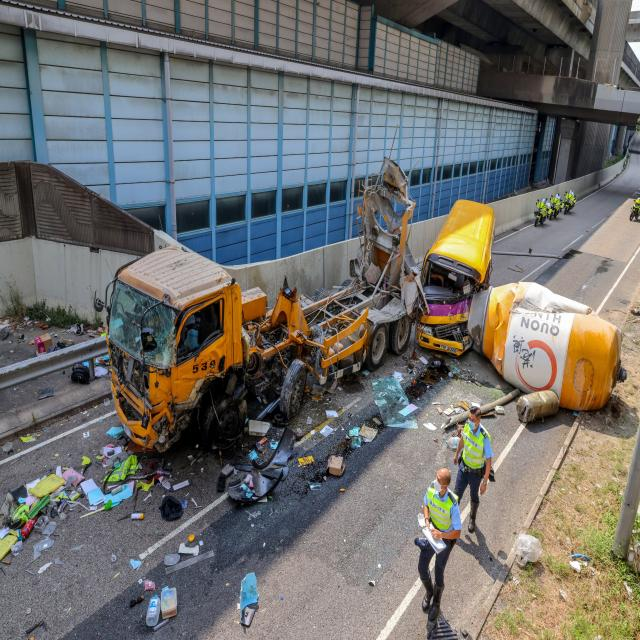Accident: (98, 162, 496, 471)
